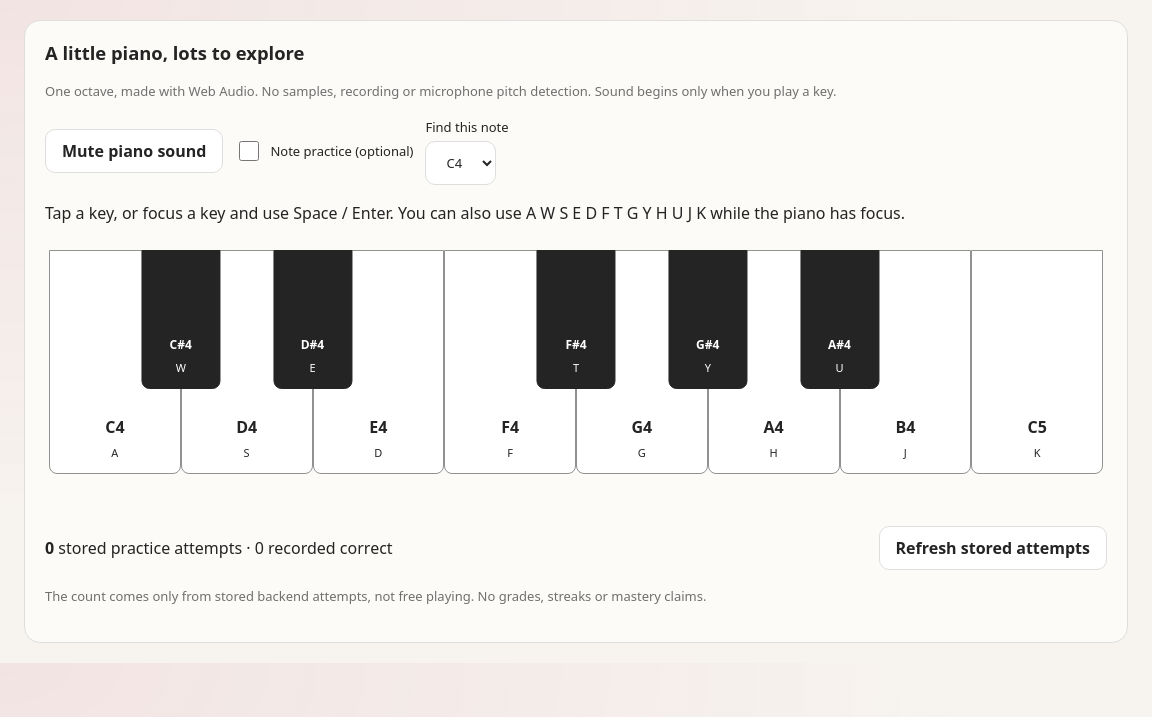
optional piano practice › uses touch/pointer notes and refuses to fabricate a result or count after a failed submission
The image size is (1152, 717).
Expected: the button "Refresh stored attempts" is enabled, [878, 526, 1107, 570]
Click the checkbox labelled "Note practice (optional)". click: (249, 151)
box: [239, 141, 259, 161]
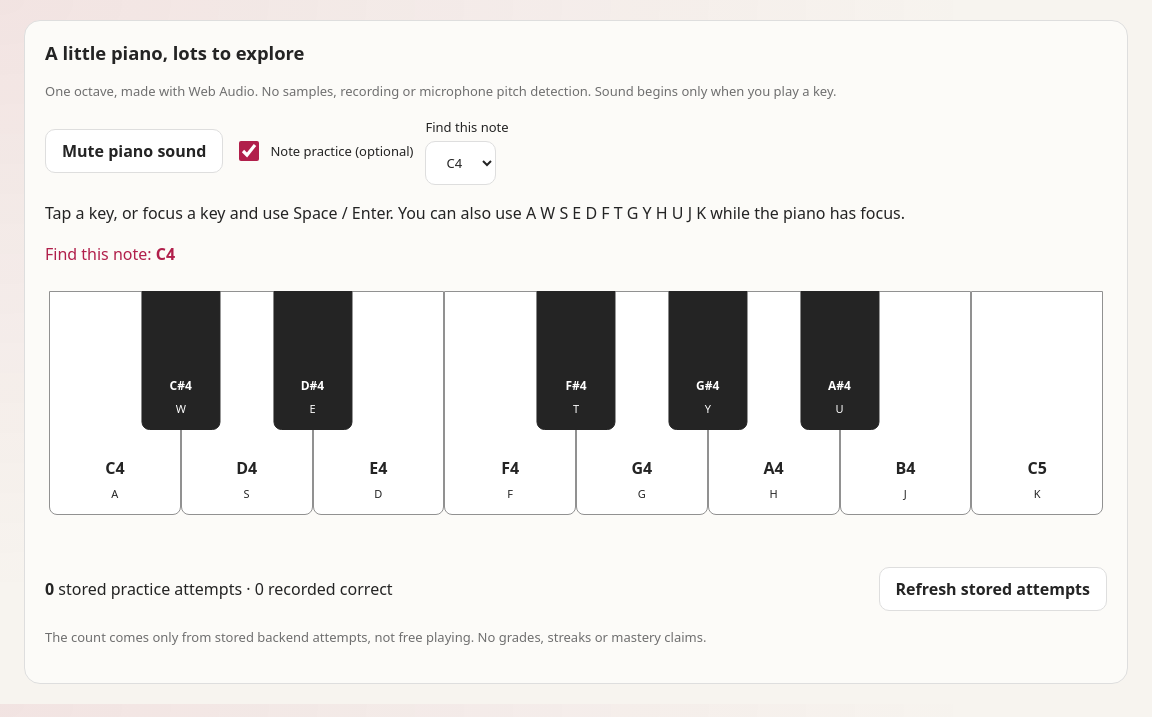
Press the mouse on the button named "D4 · S" at (247, 403), box [181, 291, 313, 515]
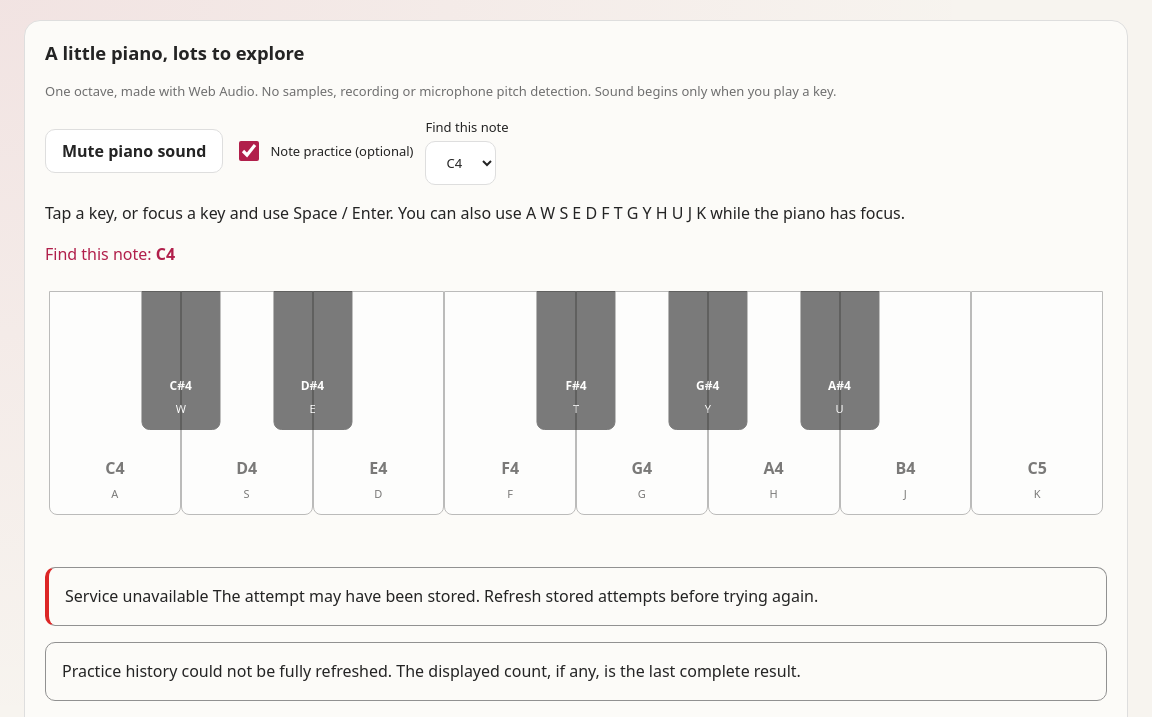
Expected: the 2nd message shows "attempt may have been stored", [65, 585, 818, 607]
Expected: the button named "D4 · S" is disabled, [181, 291, 313, 515]
